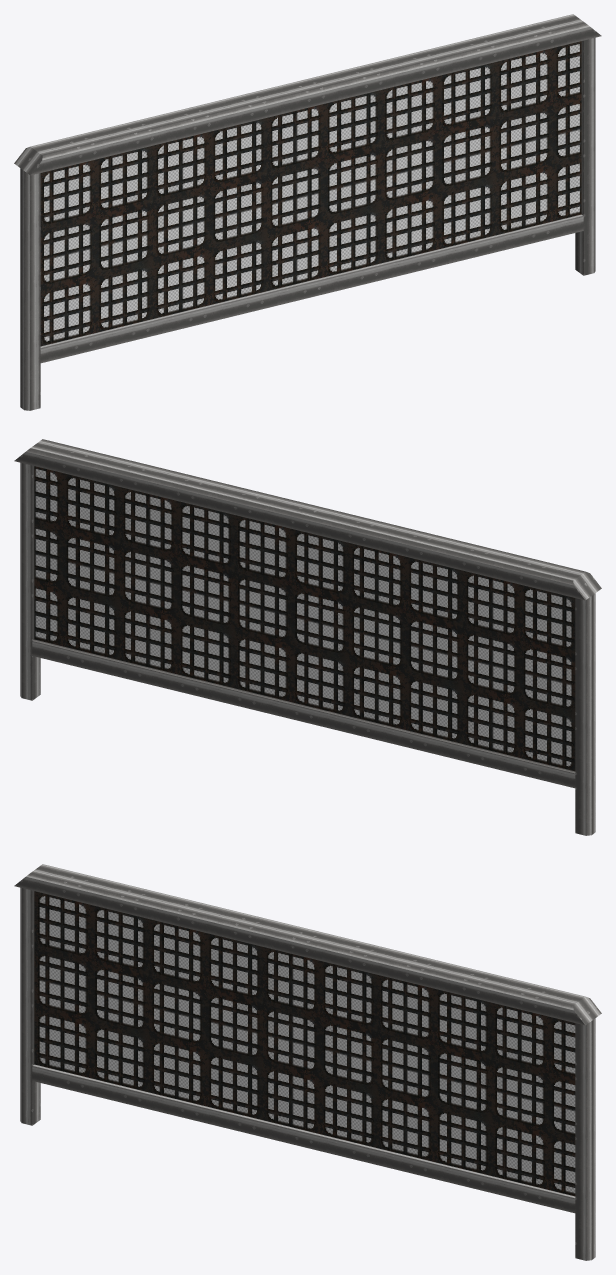
File: railing.obj
3 renders of one model, top to bottom at view 1: azimuth 30°, elevation 25°; view 2: azimuth 150°, elevation 25°; view 3: azimuth 330°, elevation 25°, orthographic.
Parts seen in each view (by area): view 1: railing; view 2: railing; view 3: railing.
Boxes of the visible parts, x1=… form: railing: x1=14, y1=14, x2=601, y2=410; railing: x1=14, y1=439, x2=601, y2=835; railing: x1=14, y1=864, x2=601, y2=1260.
Size of the model in its own units: 10 by 4.25 by 0.5.
